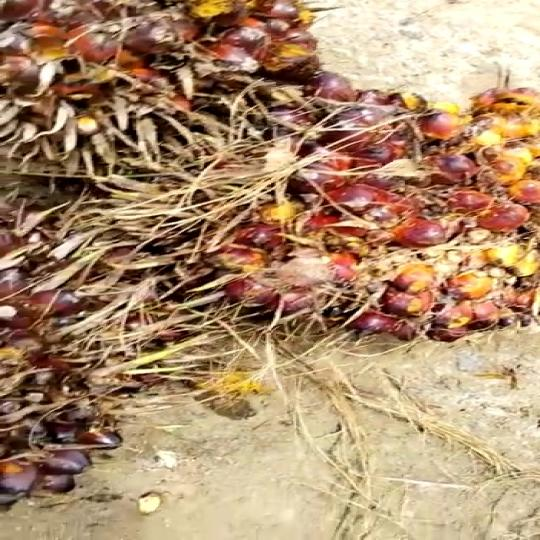masak: (170, 78, 540, 366), (0, 0, 321, 179)
